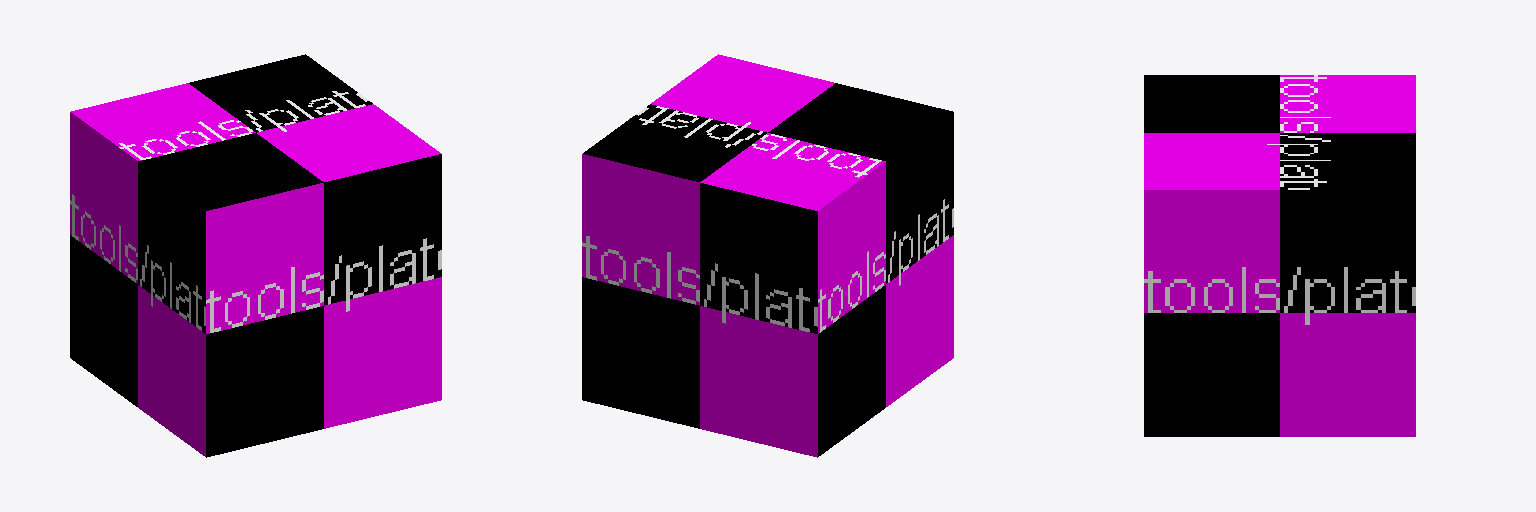
The picture shows the model from 3 angles: view 1: azimuth 30°, elevation 25°; view 2: azimuth 150°, elevation 25°; view 3: azimuth 270°, elevation 25°; orthographic projection.
Parts seen in each view (by area): view 1: plate-chopped; view 2: plate-chopped; view 3: plate-chopped.
Boxes of the visible parts, <box> form: plate-chopped: <box>70,54,441,457</box>; plate-chopped: <box>582,54,953,457</box>; plate-chopped: <box>1144,75,1415,436</box>.
Size of the model in its own units: 1 by 1 by 1.
Materials: 1 (1 with a texture image).